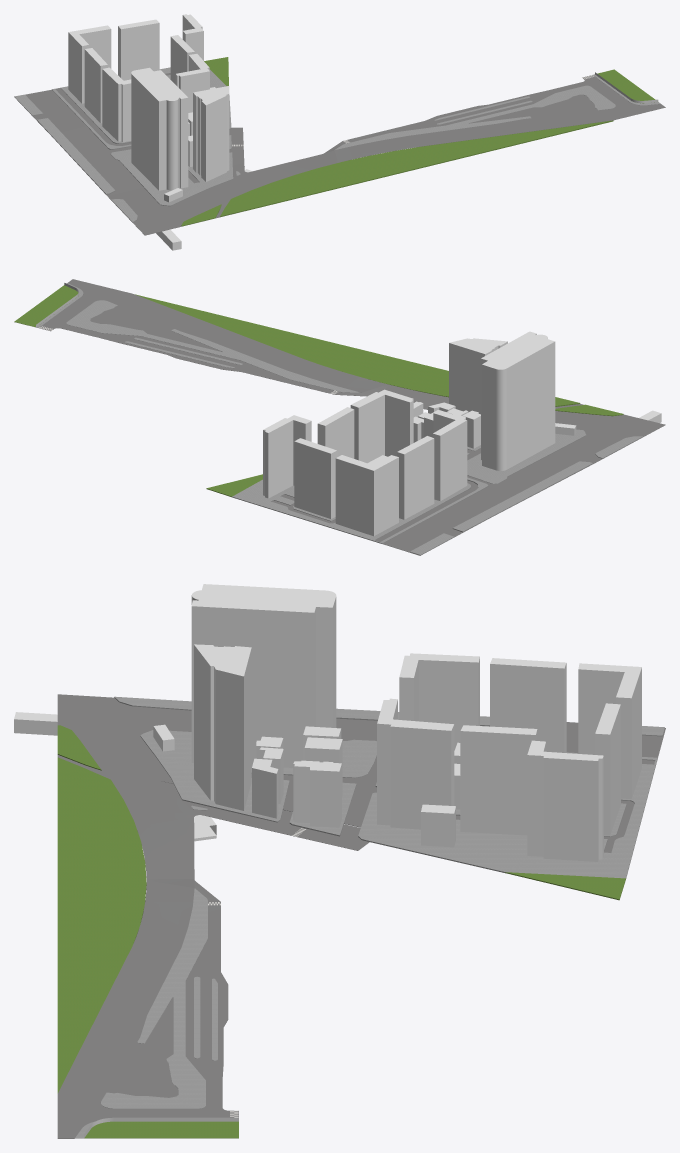
The model's file is 08_Environment.fbx.
The picture shows the model from 3 angles, top to bottom: view 1: azimuth 30°, elevation 25°; view 2: azimuth 150°, elevation 25°; view 3: azimuth 270°, elevation 25°; orthographic projection. The views are drawn at different scales.
Visible parts, largest first — view 1: 08 주변환경; view 2: 08 주변환경; view 3: 08 주변환경.
Boxes of the visible parts, box(x1,y1,x2,y2) form: 08 주변환경: box(14, 14, 665, 250); 08 주변환경: box(14, 279, 665, 555); 08 주변환경: box(14, 584, 665, 1138).
Bounding box in the file's own units: 70751 × 13024 × 43710.
